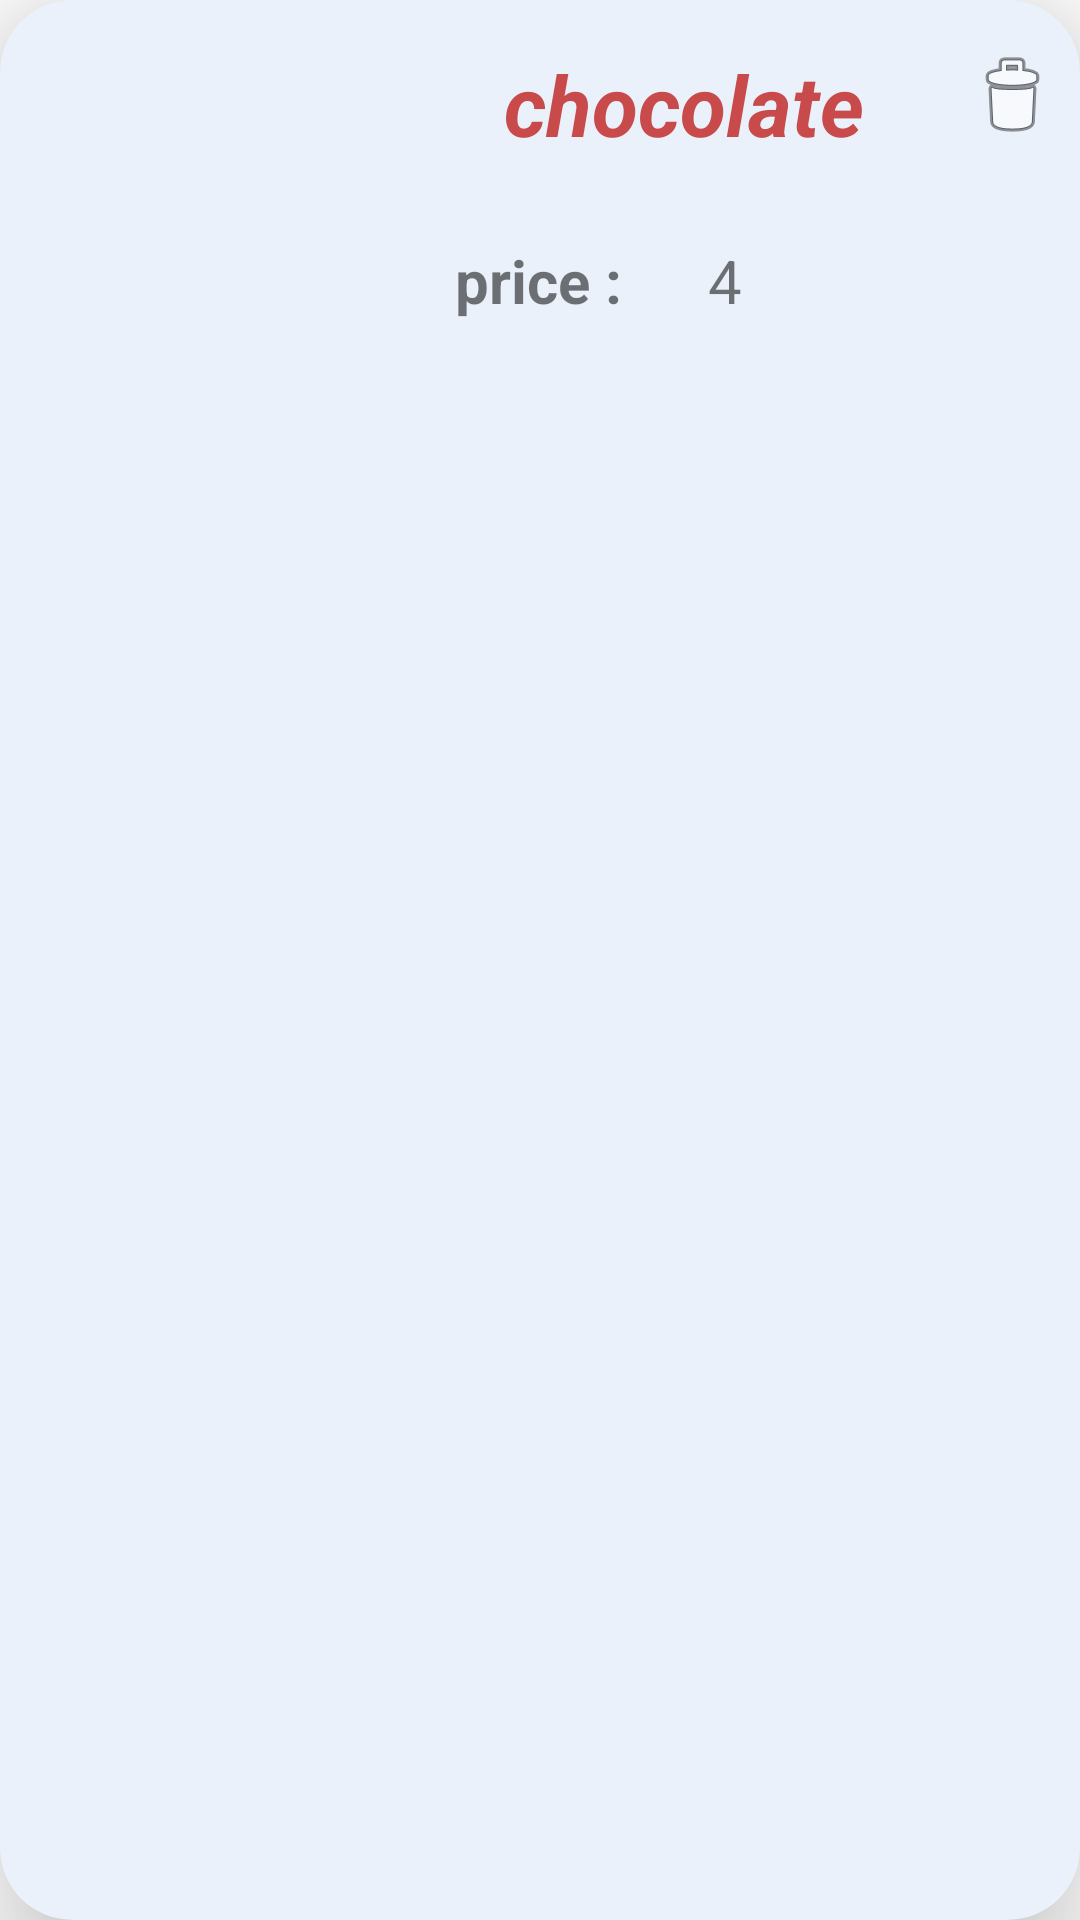

Screen size 1080 x 1920. Icon name, then its center in pixels as (x=x, y=y):
delete: (x=1012, y=94)
